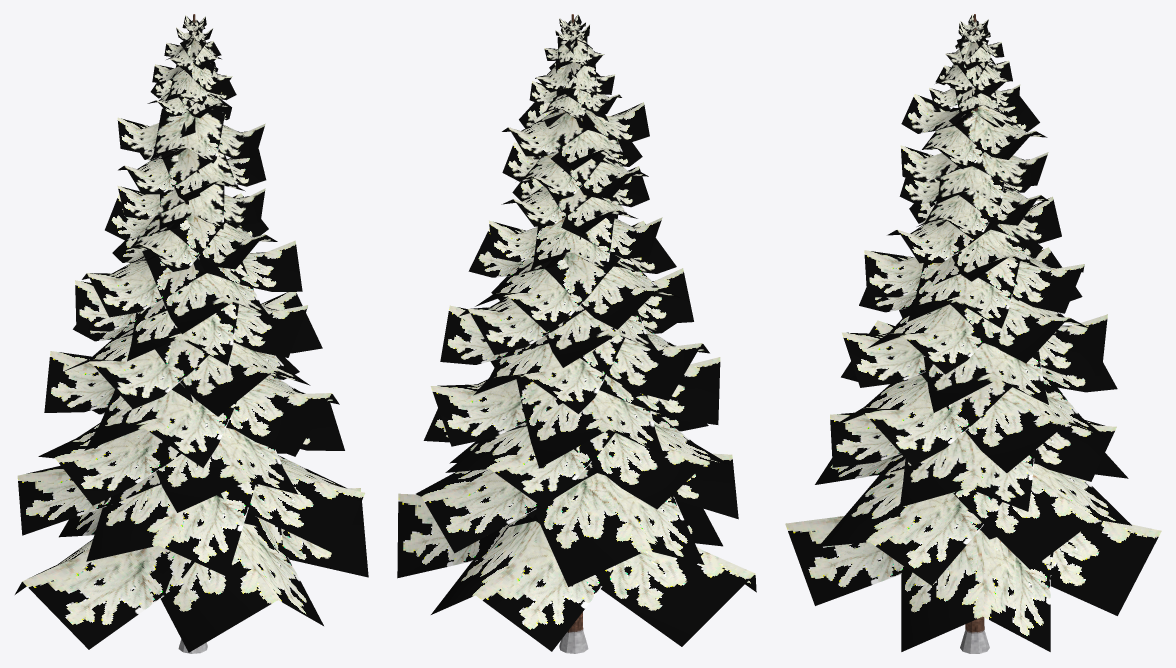
Rendered from Дерево1.fbx.
3 renders of one model, left to right at view 1: azimuth 30°, elevation 25°; view 2: azimuth 150°, elevation 25°; view 3: azimuth 270°, elevation 25°, orthographic.
Parts seen in each view (by area): view 1: Листва ели; view 2: Листва ели; view 3: Листва ели.
Part boxes in pixels (bbox=[...]): Листва ели: bbox=[15, 14, 368, 653]; Листва ели: bbox=[397, 14, 756, 653]; Листва ели: bbox=[785, 14, 1161, 653].
Size of the model in its own units: 3142 by 5462 by 2941.
